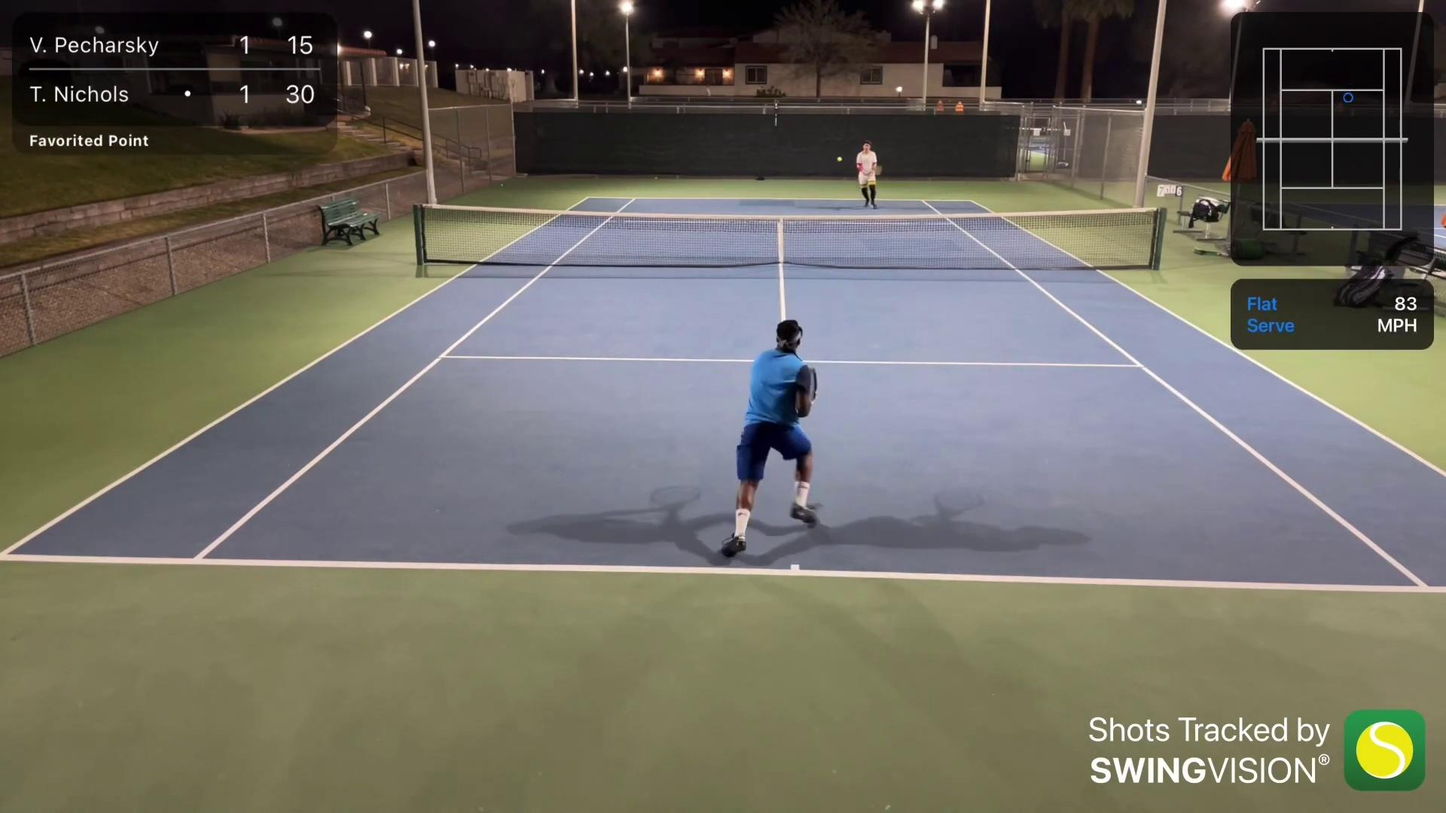ball: (836, 155, 843, 162)
